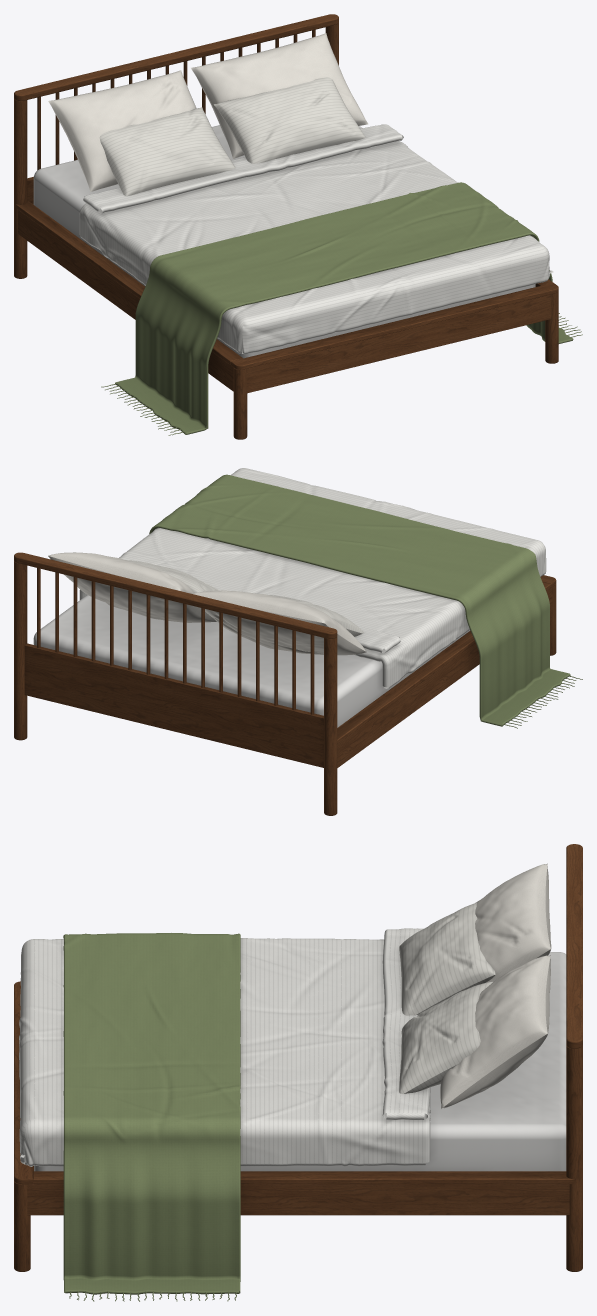
File: cama-queen-madeira-decorada.glb
3 views of the same model, one above another, from view 1: azimuth 30°, elevation 25°; view 2: azimuth 150°, elevation 25°; view 3: azimuth 270°, elevation 25° (orthographic). The views are drawn at different scales.
Visible parts, largest first — view 1: Edredom, Manta, Estrutura, Almofadas, Travesseiros, Colchao; view 2: Estrutura, Manta, Edredom, Colchao, Travesseiros, Almofadas; view 3: Manta, Edredom, Estrutura, Colchao, Travesseiros, Almofadas.
Part boxes in pixels (<box>): Edredom: <box>79,124,553,354</box>; Manta: <box>101,182,582,435</box>; Estrutura: <box>14,14,558,439</box>; Almofadas: <box>99,77,365,196</box>; Travesseiros: <box>48,33,368,191</box>; Colchao: <box>33,125,535,358</box>; Estrutura: <box>14,552,556,815</box>; Manta: <box>149,474,582,728</box>; Edredom: <box>79,468,546,688</box>; Colchao: <box>33,595,470,727</box>; Travesseiros: <box>48,552,366,655</box>; Almofadas: <box>125,560,363,636</box>; Manta: <box>63,933,240,1301</box>; Edredom: <box>19,928,430,1166</box>; Estrutura: <box>14,844,582,1271</box>; Colchao: <box>34,952,566,1171</box>; Travesseiros: <box>440,863,551,1108</box>; Almofadas: <box>399,902,495,1093</box>.
Bounding box in the file's own units: 2.25 × 0.946 × 2.1.
6 materials, 6 textured.
